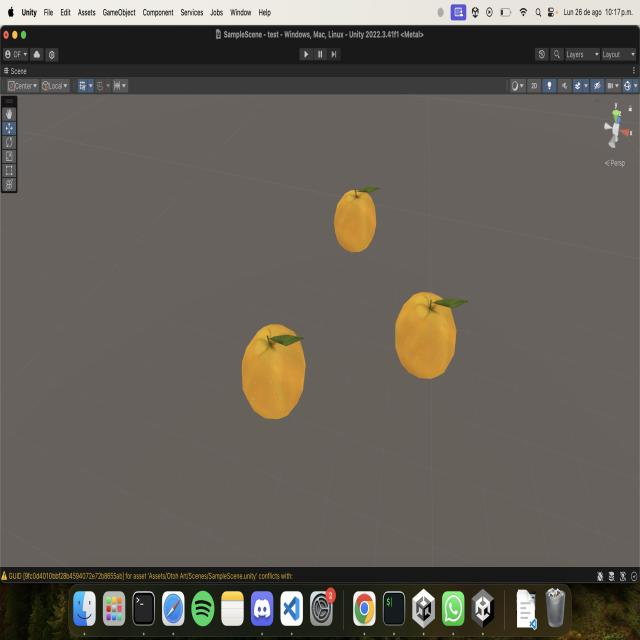oranges: (388, 279, 472, 398), (234, 311, 316, 431), (326, 168, 387, 266)
